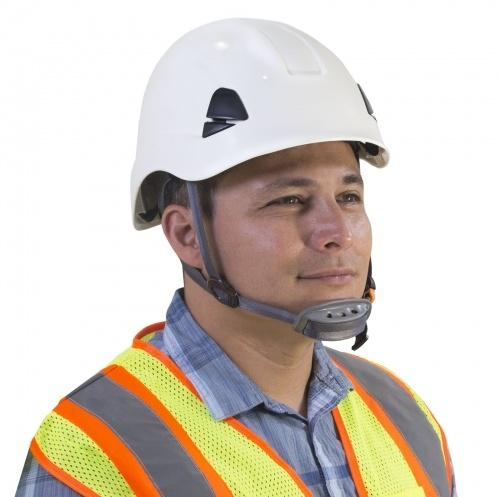helmet: (121, 19, 397, 229)
wear: (144, 345, 460, 497)
